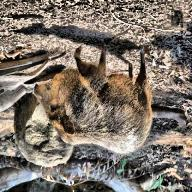boar: (33, 37, 165, 157)
